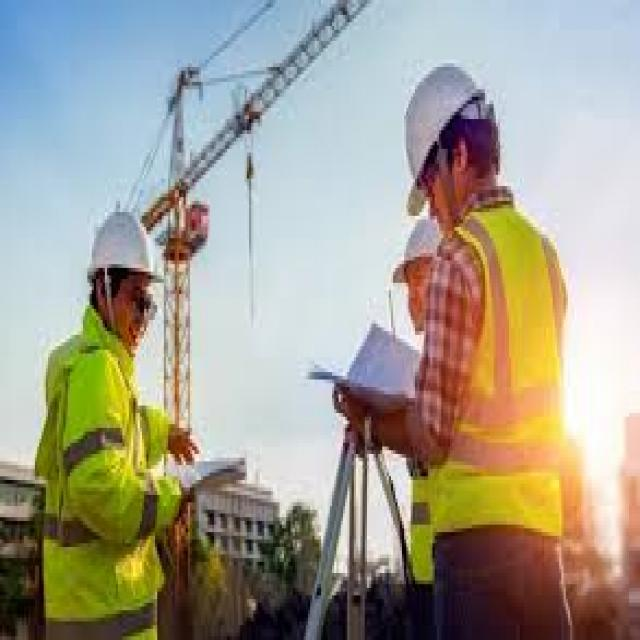Reflective-Jacket: (398, 197, 586, 581), (26, 328, 173, 599)
Safety-Helmet: (393, 52, 494, 197), (76, 201, 166, 298), (384, 205, 448, 290)
